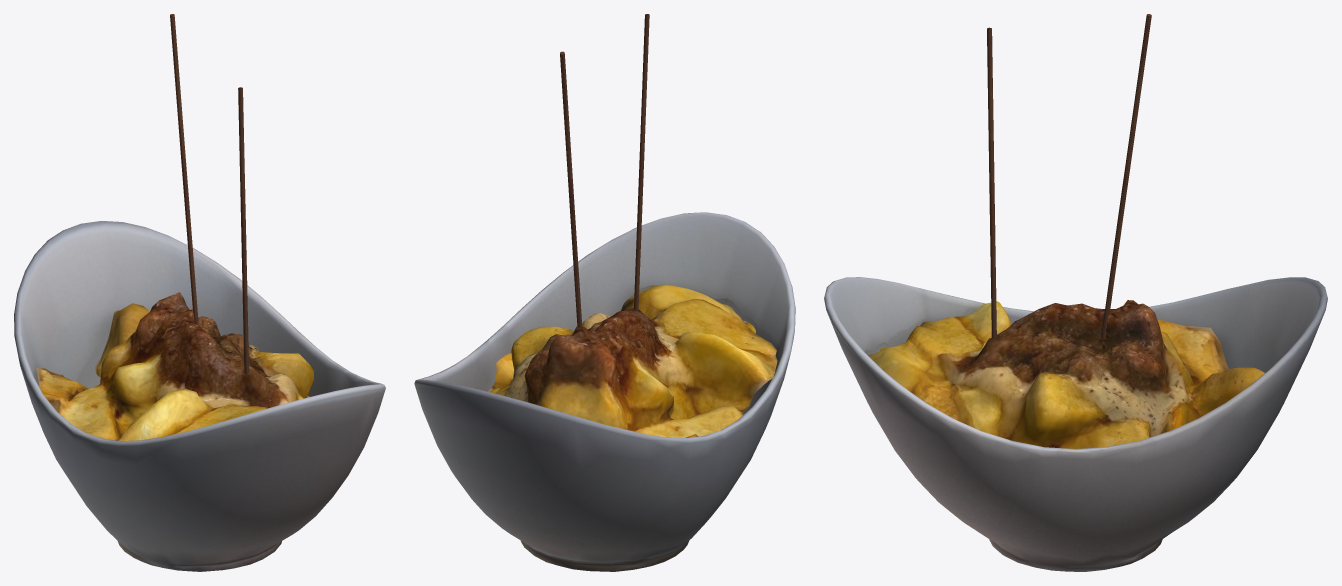
Rendered from asset.glb.
The picture shows the model from 3 angles, left to right: view 1: azimuth 30°, elevation 25°; view 2: azimuth 150°, elevation 25°; view 3: azimuth 270°, elevation 25°; orthographic projection. The views are drawn at different scales.
Visible parts, largest first — view 1: bowl, bravas, stick01, Stick02; view 2: bowl, bravas, Stick02, stick01; view 3: bowl, bravas, stick01, Stick02.
Boxes of the visible parts, bbox=[...] form: bowl: bbox=[14, 221, 385, 571]; bravas: bbox=[36, 292, 313, 440]; stick01: bbox=[170, 14, 198, 325]; Stick02: bbox=[238, 87, 248, 374]; bowl: bbox=[414, 212, 795, 571]; bravas: bbox=[488, 284, 777, 437]; Stick02: bbox=[634, 14, 649, 310]; stick01: bbox=[560, 51, 582, 327]; bowl: bbox=[824, 277, 1327, 571]; bravas: bbox=[868, 300, 1264, 448]; stick01: bbox=[1101, 14, 1151, 339]; Stick02: bbox=[987, 27, 996, 338].
Bounding box in the file's own units: 3.21 × 5.68 × 4.94.
3 materials, 3 textured.
